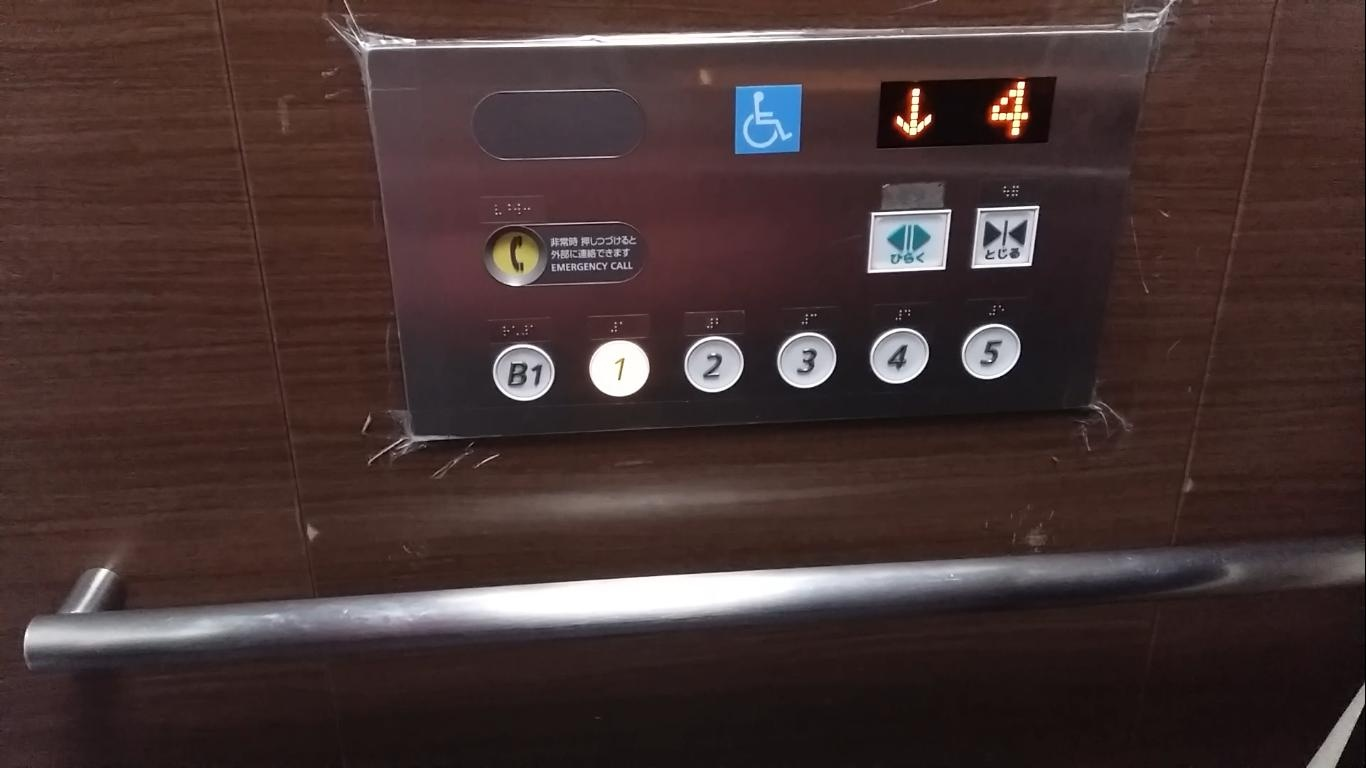1: (587, 339, 650, 396)
2: (683, 336, 746, 393)
3: (775, 331, 838, 390)
4: (867, 326, 930, 385)
5: (960, 322, 1022, 381)
B1: (492, 343, 555, 403)
CH: (732, 84, 801, 156)
call: (482, 224, 549, 287)
close: (970, 206, 1039, 270)
empty: (470, 89, 648, 159)
led: (878, 77, 1056, 148)
open: (865, 207, 953, 275)
